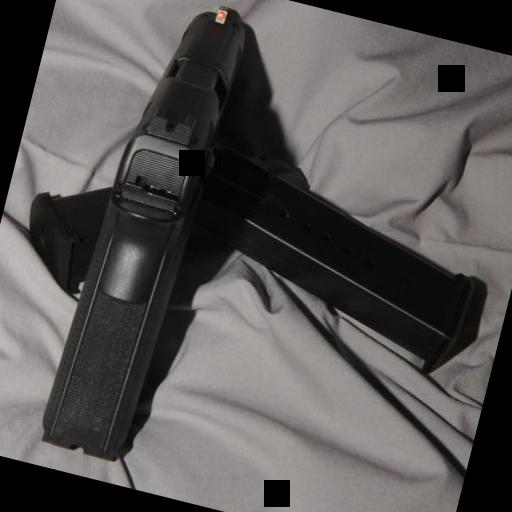Handgun: (31, 0, 255, 465)
